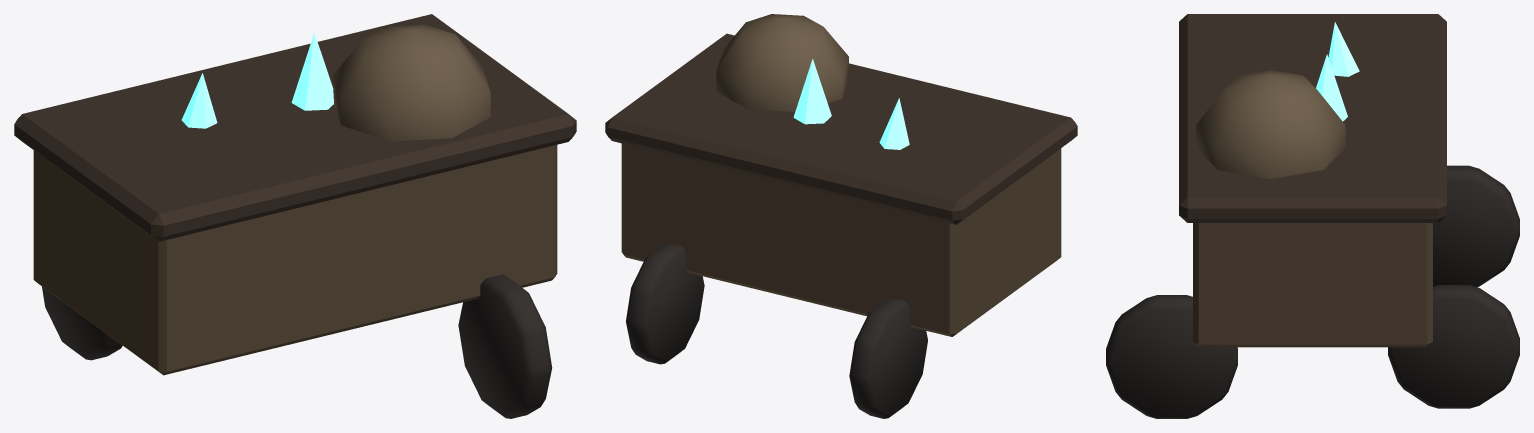
The model's file is ore_cart.glb.
3 views of the same model, side by side, from view 1: azimuth 30°, elevation 25°; view 2: azimuth 150°, elevation 25°; view 3: azimuth 270°, elevation 25° (orthographic). The views are drawn at different scales.
Visible parts, largest first — view 1: prop.ore_cart; view 2: prop.ore_cart; view 3: prop.ore_cart.
Boxes of the visible parts, x1,y1,x2,y2 form: prop.ore_cart: (14,14,576,418); prop.ore_cart: (605,14,1077,418); prop.ore_cart: (1106,14,1519,418).
Bounding box in the file's own units: 1.14 × 0.9 × 1.05.
